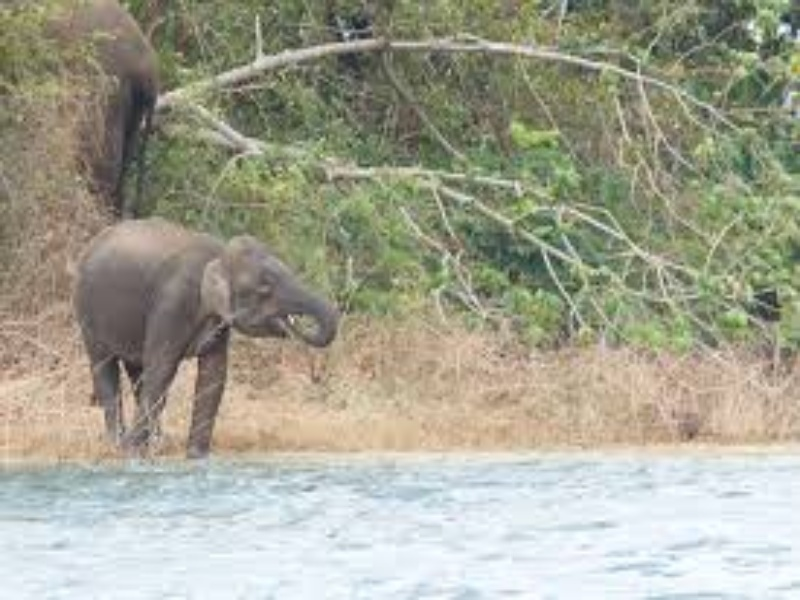elephant: (29, 217, 344, 470)
